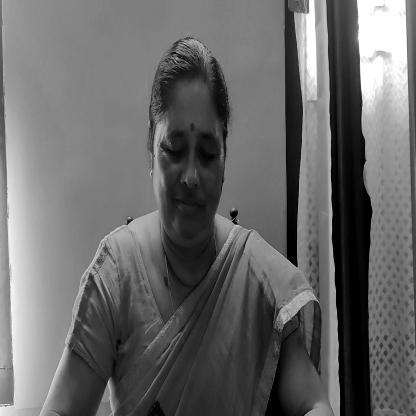Normal: (142, 39, 232, 246)
